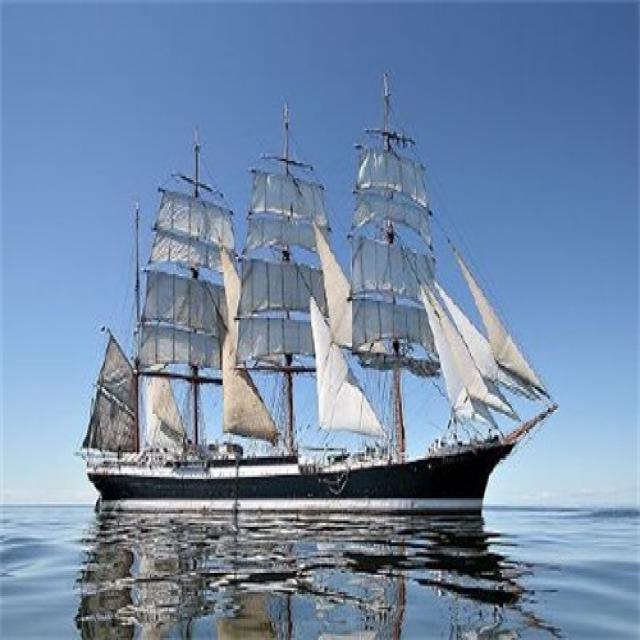Ship: (72, 118, 563, 535)
